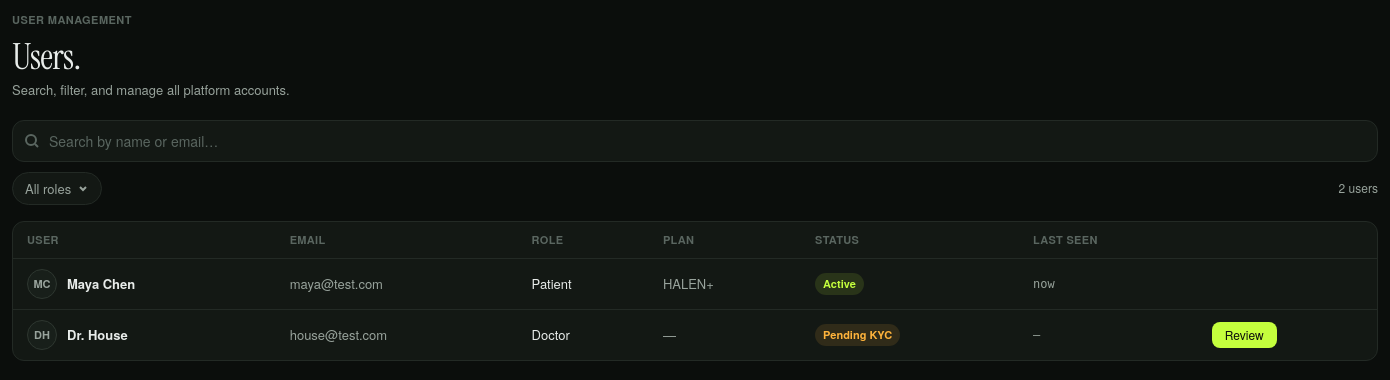
Test case: AdminUsersPage › shows KYC review button for doctor with PendingReview status
Click the text "Dr. House": (97, 335) [13,310,1377,360]
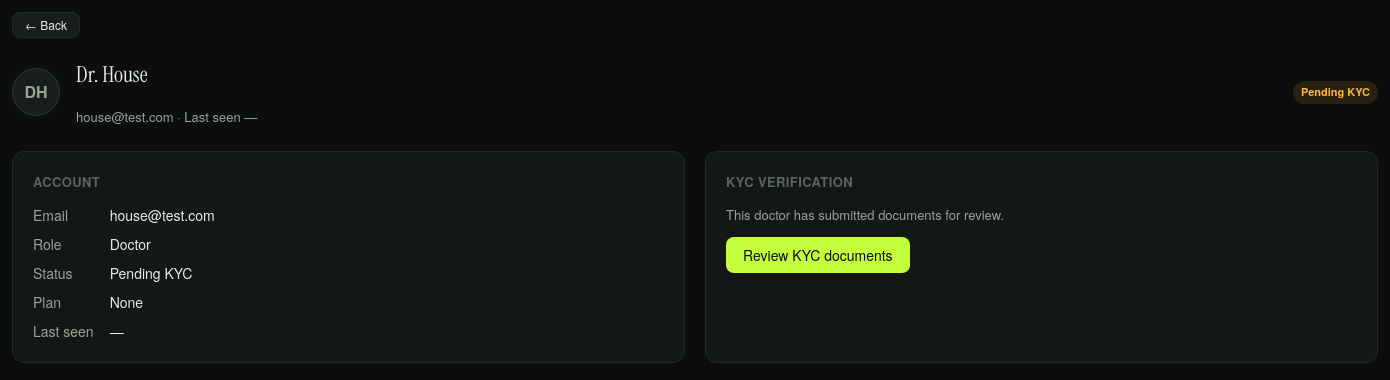
Expected: the heading "Dr. House" is shown, [76,60,148,89]
Expected: the button "Review KYC documents" is shown, [726,236,910,272]
